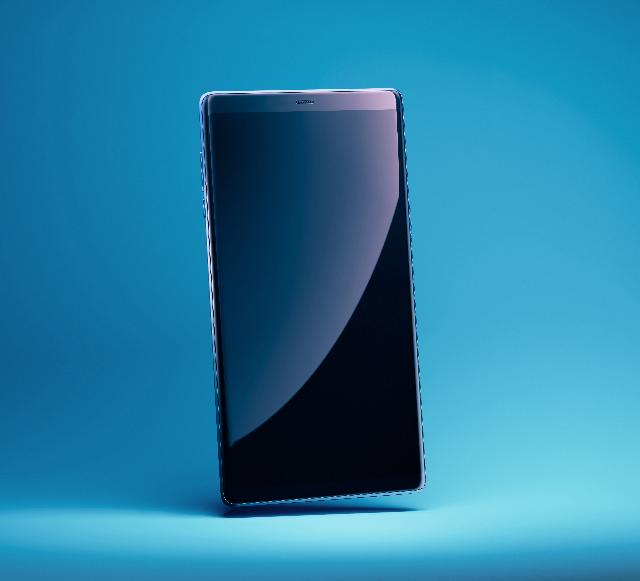phone good: (188, 89, 437, 511)
